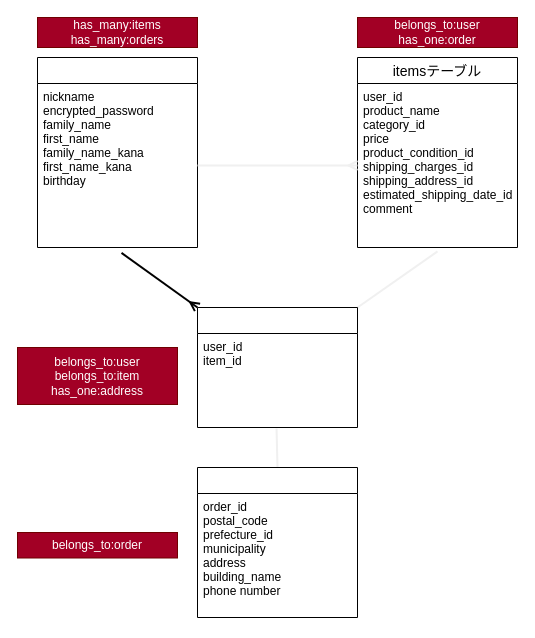
The diagram is 535 pixels wide and 638 high, and some of its shapes have lost their labels. The shapes that lost their labels are listed below. From the top down, each one's box as (x1, y1, x2, y2) in pixels, then its label:
(36, 56, 198, 248): usersテーブル
(196, 306, 358, 428): ordersテーブル
(196, 466, 358, 618): addressesテーブル
